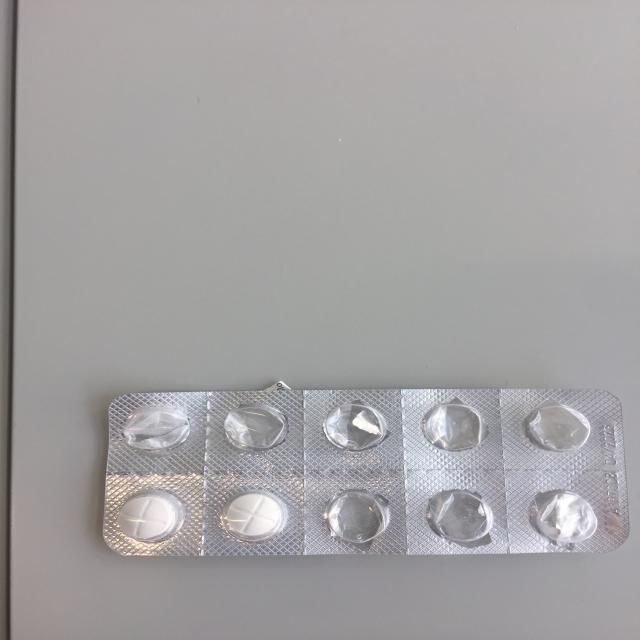Empty: (422, 485, 501, 552), (524, 487, 605, 551), (318, 486, 396, 552), (311, 396, 395, 456), (519, 396, 597, 455), (418, 397, 490, 457), (213, 403, 292, 456), (119, 403, 195, 456)
Pill: (106, 490, 187, 547), (212, 489, 294, 545)
